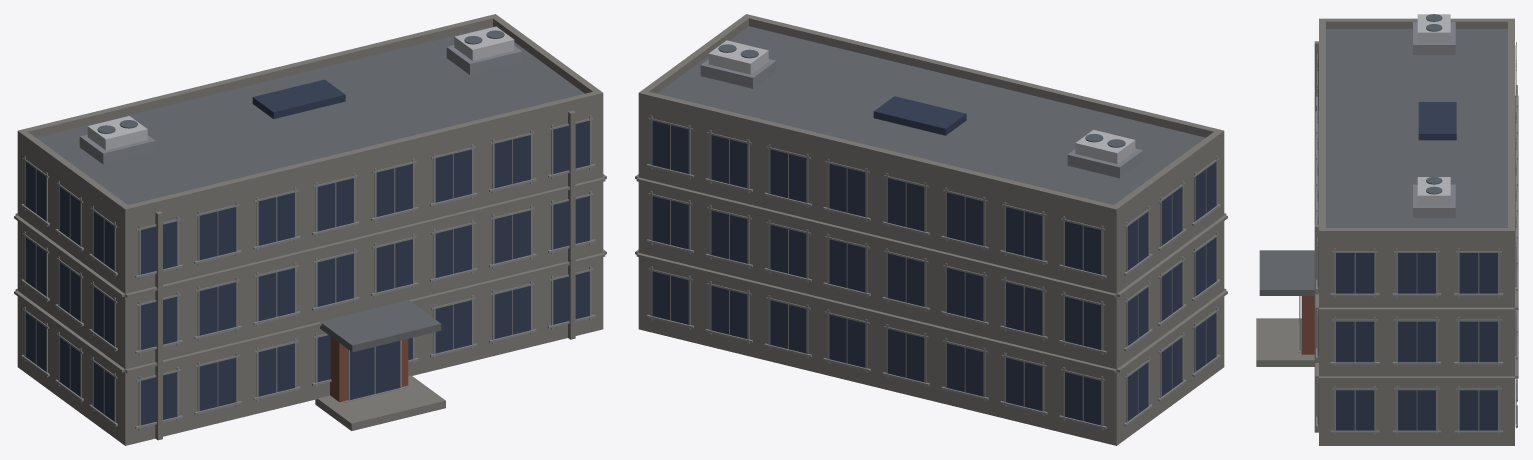
The model's file is civic_long_08_lvl1.glb.
3 views of the same model, side by side, from view 1: azimuth 30°, elevation 25°; view 2: azimuth 150°, elevation 25°; view 3: azimuth 270°, elevation 25° (orthographic). The views are drawn at different scales.
Visible parts, largest first — view 1: civic_long_08; view 2: civic_long_08; view 3: civic_long_08.
Boxes of the visible parts, x1,y1,x2,y2 form: civic_long_08: (14,14,606,445); civic_long_08: (635,14,1227,445); civic_long_08: (1256,14,1518,445).
Size of the model in its own units: 1 by 0.525 by 0.5149.
